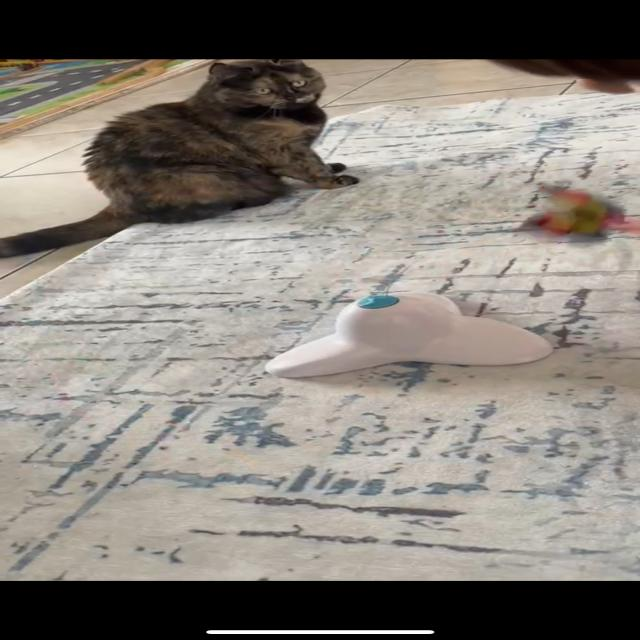authorized: (0, 58, 360, 259)
